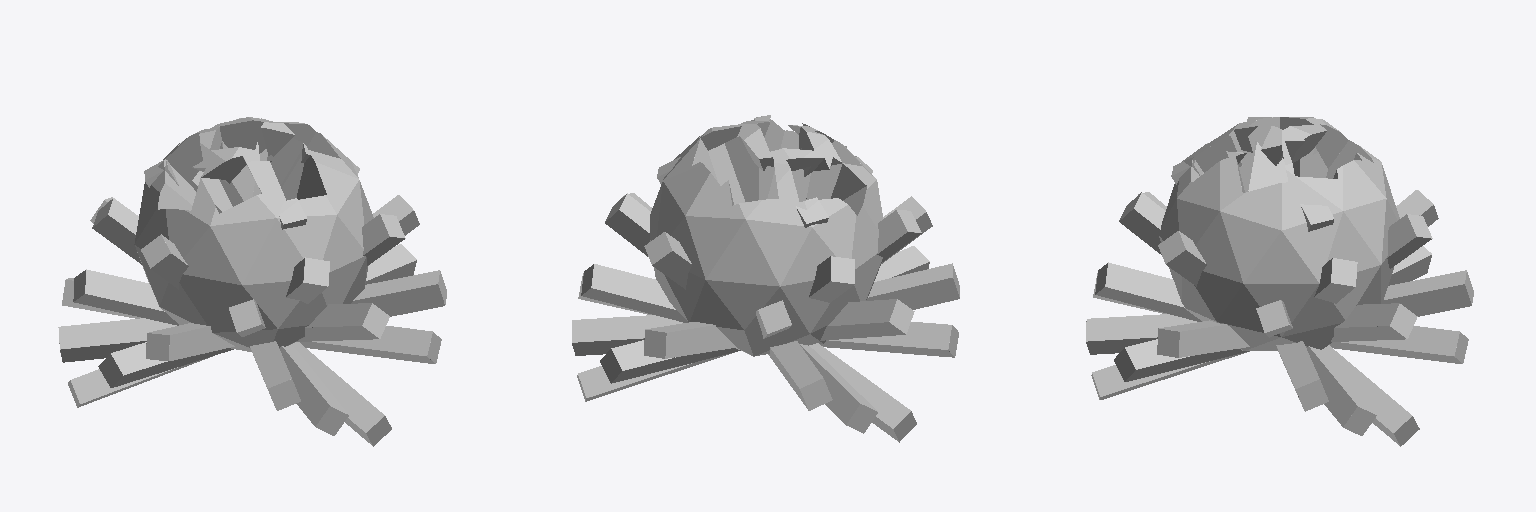
Rendered from WoodOre.obj.
The picture shows the model from 3 angles: view 1: azimuth 30°, elevation 25°; view 2: azimuth 150°, elevation 25°; view 3: azimuth 270°, elevation 25°; orthographic projection.
Parts seen in each view (by area): view 1: Cube; view 2: Cube; view 3: Cube.
Boxes of the visible parts, x1,y1,x2,y2 form: Cube: [58, 117, 446, 446]; Cube: [572, 115, 959, 442]; Cube: [1086, 117, 1473, 446].
Size of the model in its own units: 3.16 by 2.35 by 3.15.